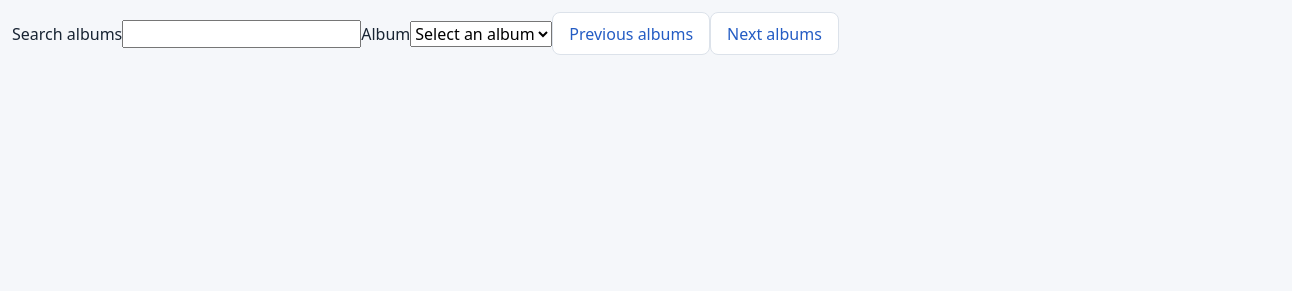
Scenario: resets picker search to the first page and exposes list failures
Click the button "Next albums" at (774, 34), box top-left (710, 12), bottom-right (839, 55)
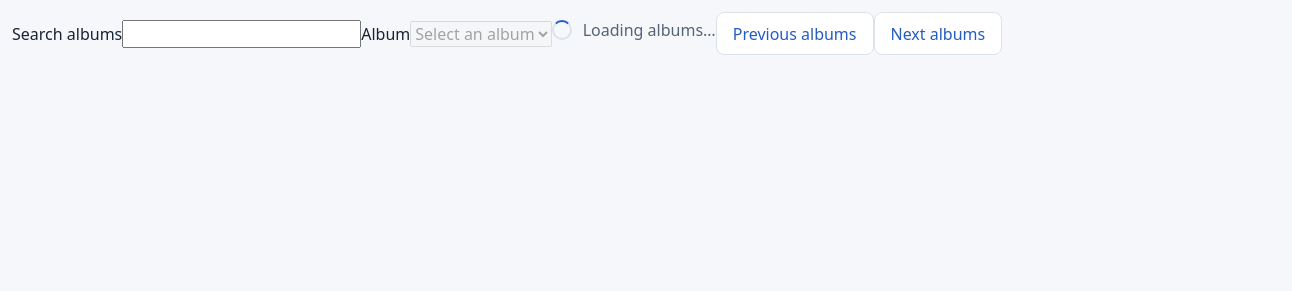
Type " cats & dogs " into the search field at (242, 34), box top-left (122, 20), bottom-right (361, 48)
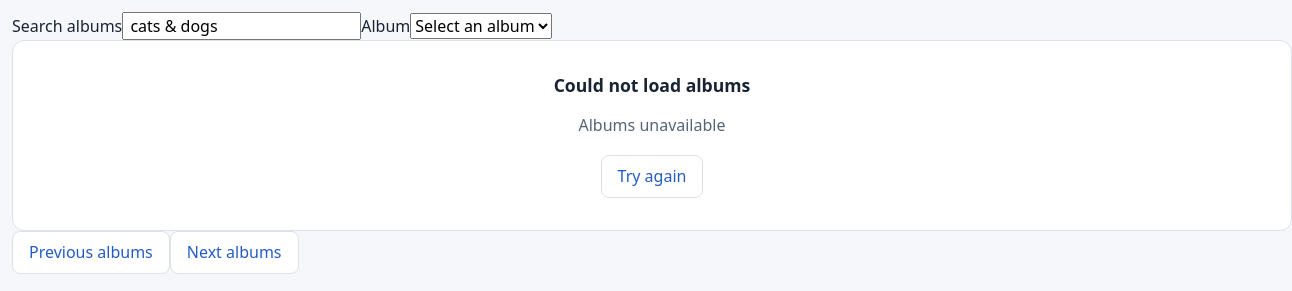
Check: the message "Could not load albums Albums unavailable Try again" is shown
Check: the message shows "Albums unavailable", box top-left (578, 114), bottom-right (726, 136)
